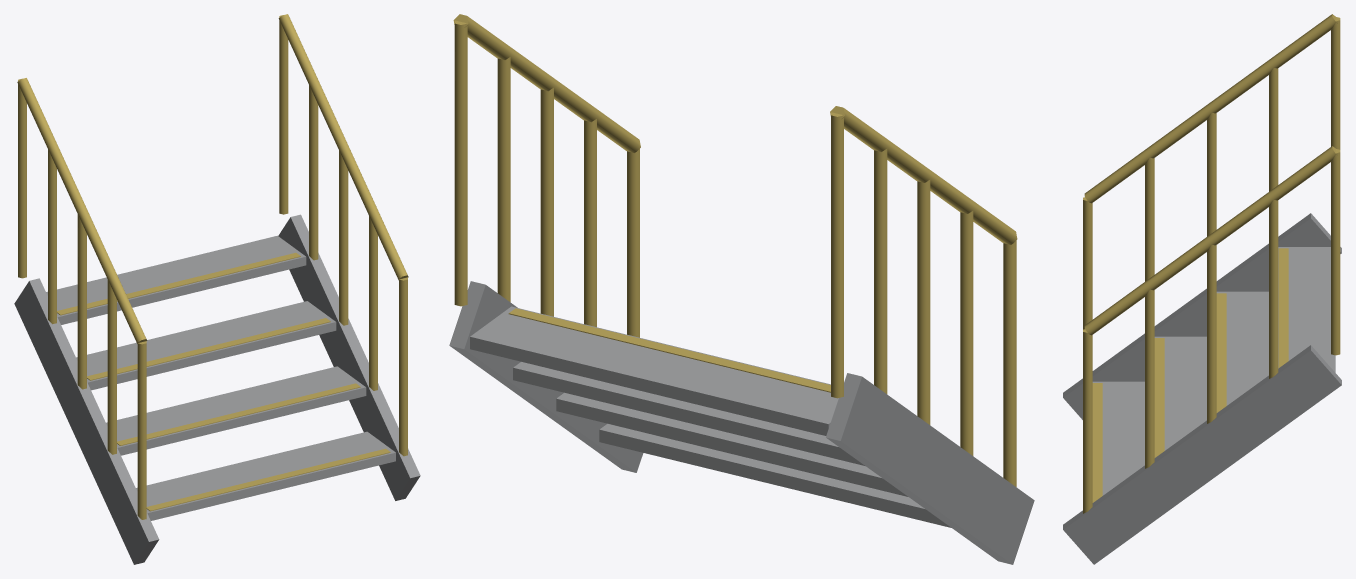
Rendered from steps_steel.glb.
3 views of the same model, side by side, from view 1: azimuth 30°, elevation 25°; view 2: azimuth 150°, elevation 25°; view 3: azimuth 270°, elevation 25° (orthographic). The views are drawn at different scales.
Parts seen in each view (by area): view 1: steps_steel; view 2: steps_steel; view 3: steps_steel.
Boxes of the visible parts, x1,y1,x2,y2 form: steps_steel: [14, 14, 420, 564]; steps_steel: [449, 14, 1034, 564]; steps_steel: [1063, 14, 1341, 564].
Bounding box in the file's own units: 1.31 × 1.85 × 1.12.
